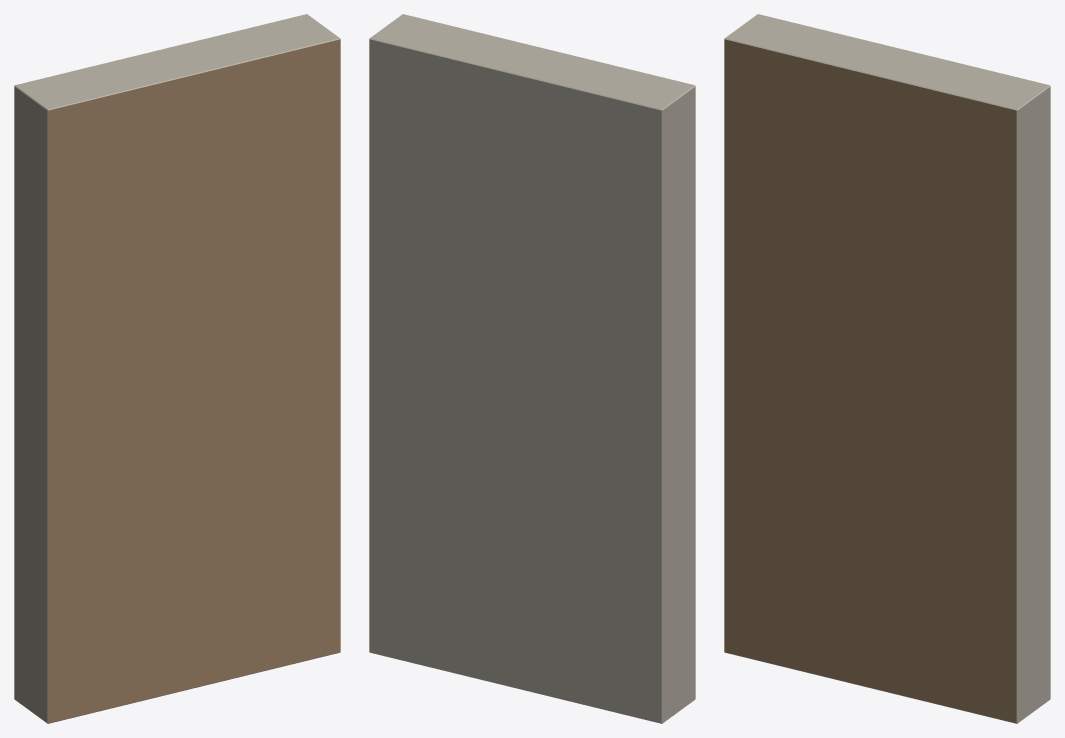
File: arch_wall_ext_w200_h400.glb
3 views of the same model, side by side, from view 1: azimuth 30°, elevation 25°; view 2: azimuth 150°, elevation 25°; view 3: azimuth 330°, elevation 25° (orthographic).
Parts seen in each view (by area): view 1: Wall; view 2: Wall; view 3: Wall.
Part boxes in pixels (x1,y1,x2,y2): Wall: (14,14,340,723); Wall: (369,14,695,723); Wall: (724,14,1050,723).
Size of what is drawn, in the model's own units: 2 by 4 by 0.4.
